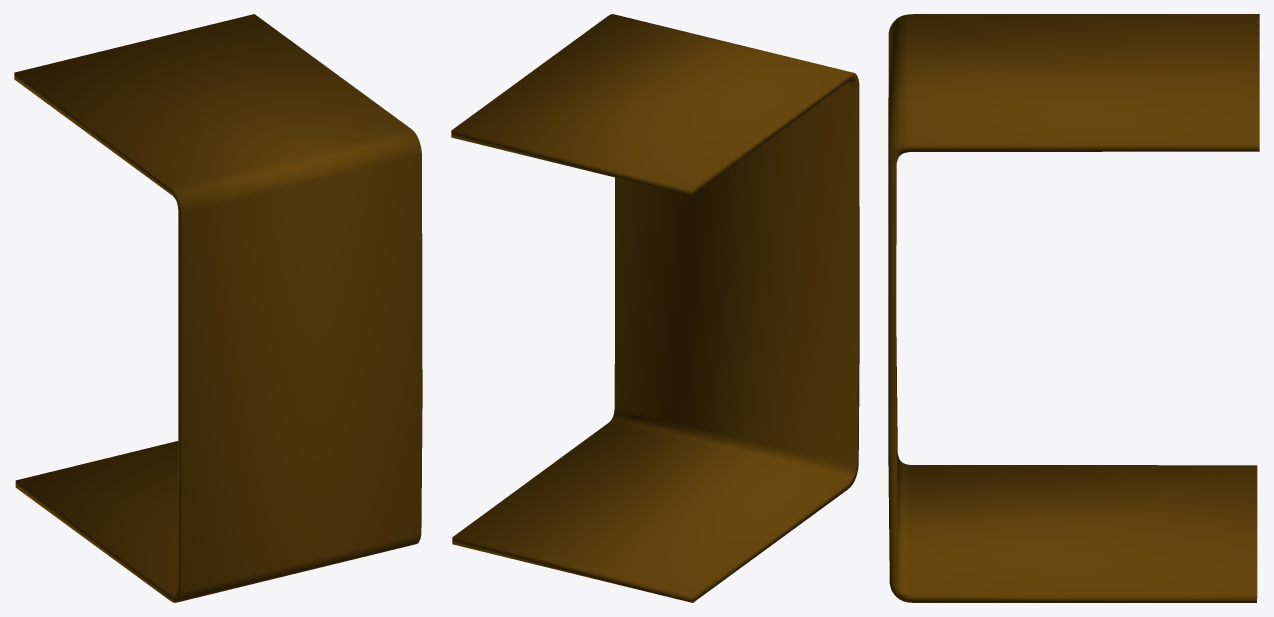
The model's file is ND-0795__TOSA_mesa3.glb.
3 views of the same model, side by side, from view 1: azimuth 30°, elevation 25°; view 2: azimuth 150°, elevation 25°; view 3: azimuth 270°, elevation 25° (orthographic). The views are drawn at different scales.
Visible parts, largest first — view 1: Cube.002; view 2: Cube.002; view 3: Cube.002.
Boxes of the visible parts, box(x1,y1,x2,y2) form: Cube.002: box(14, 14, 422, 602); Cube.002: box(451, 14, 859, 602); Cube.002: box(888, 14, 1259, 602).
Size of the model in its own units: 1.32 by 2.17 by 1.59.
